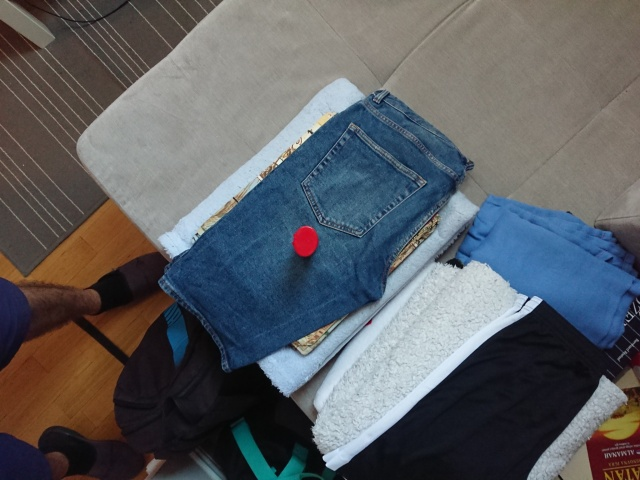Kotanyi Curry Spices Mix 70g: (290, 224, 320, 260)
